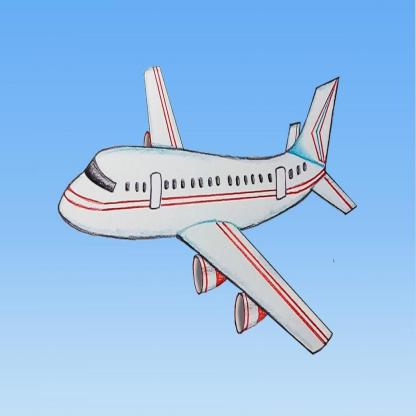CIV_Plane: (57, 64, 356, 357)
